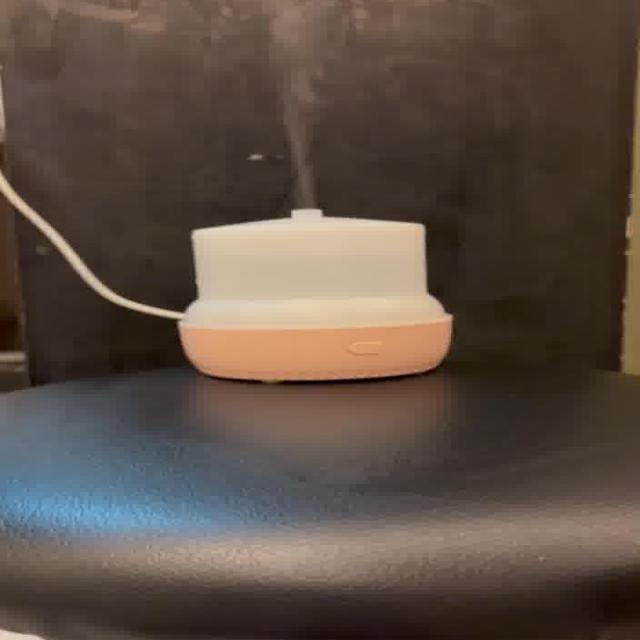fire: (279, 40, 328, 206)
